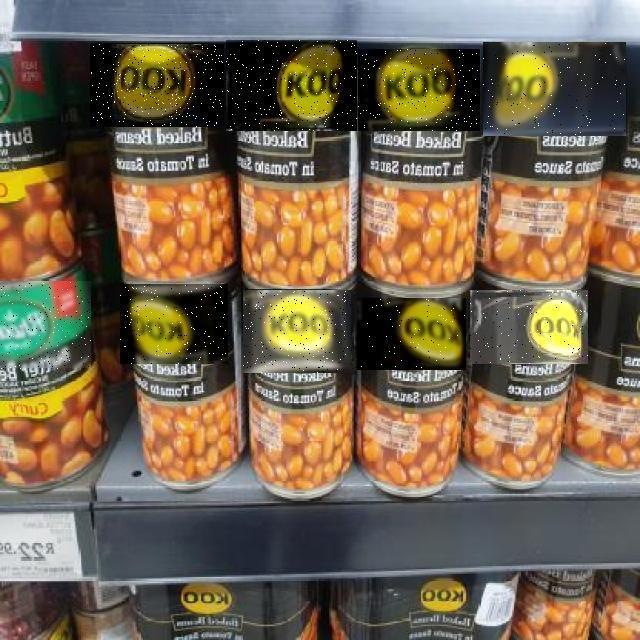Beans: (483, 42, 626, 136), (226, 40, 357, 131), (90, 44, 224, 127), (358, 49, 480, 131), (243, 290, 351, 373), (470, 290, 588, 364), (120, 285, 228, 365), (0, 282, 91, 370), (357, 298, 466, 370)
